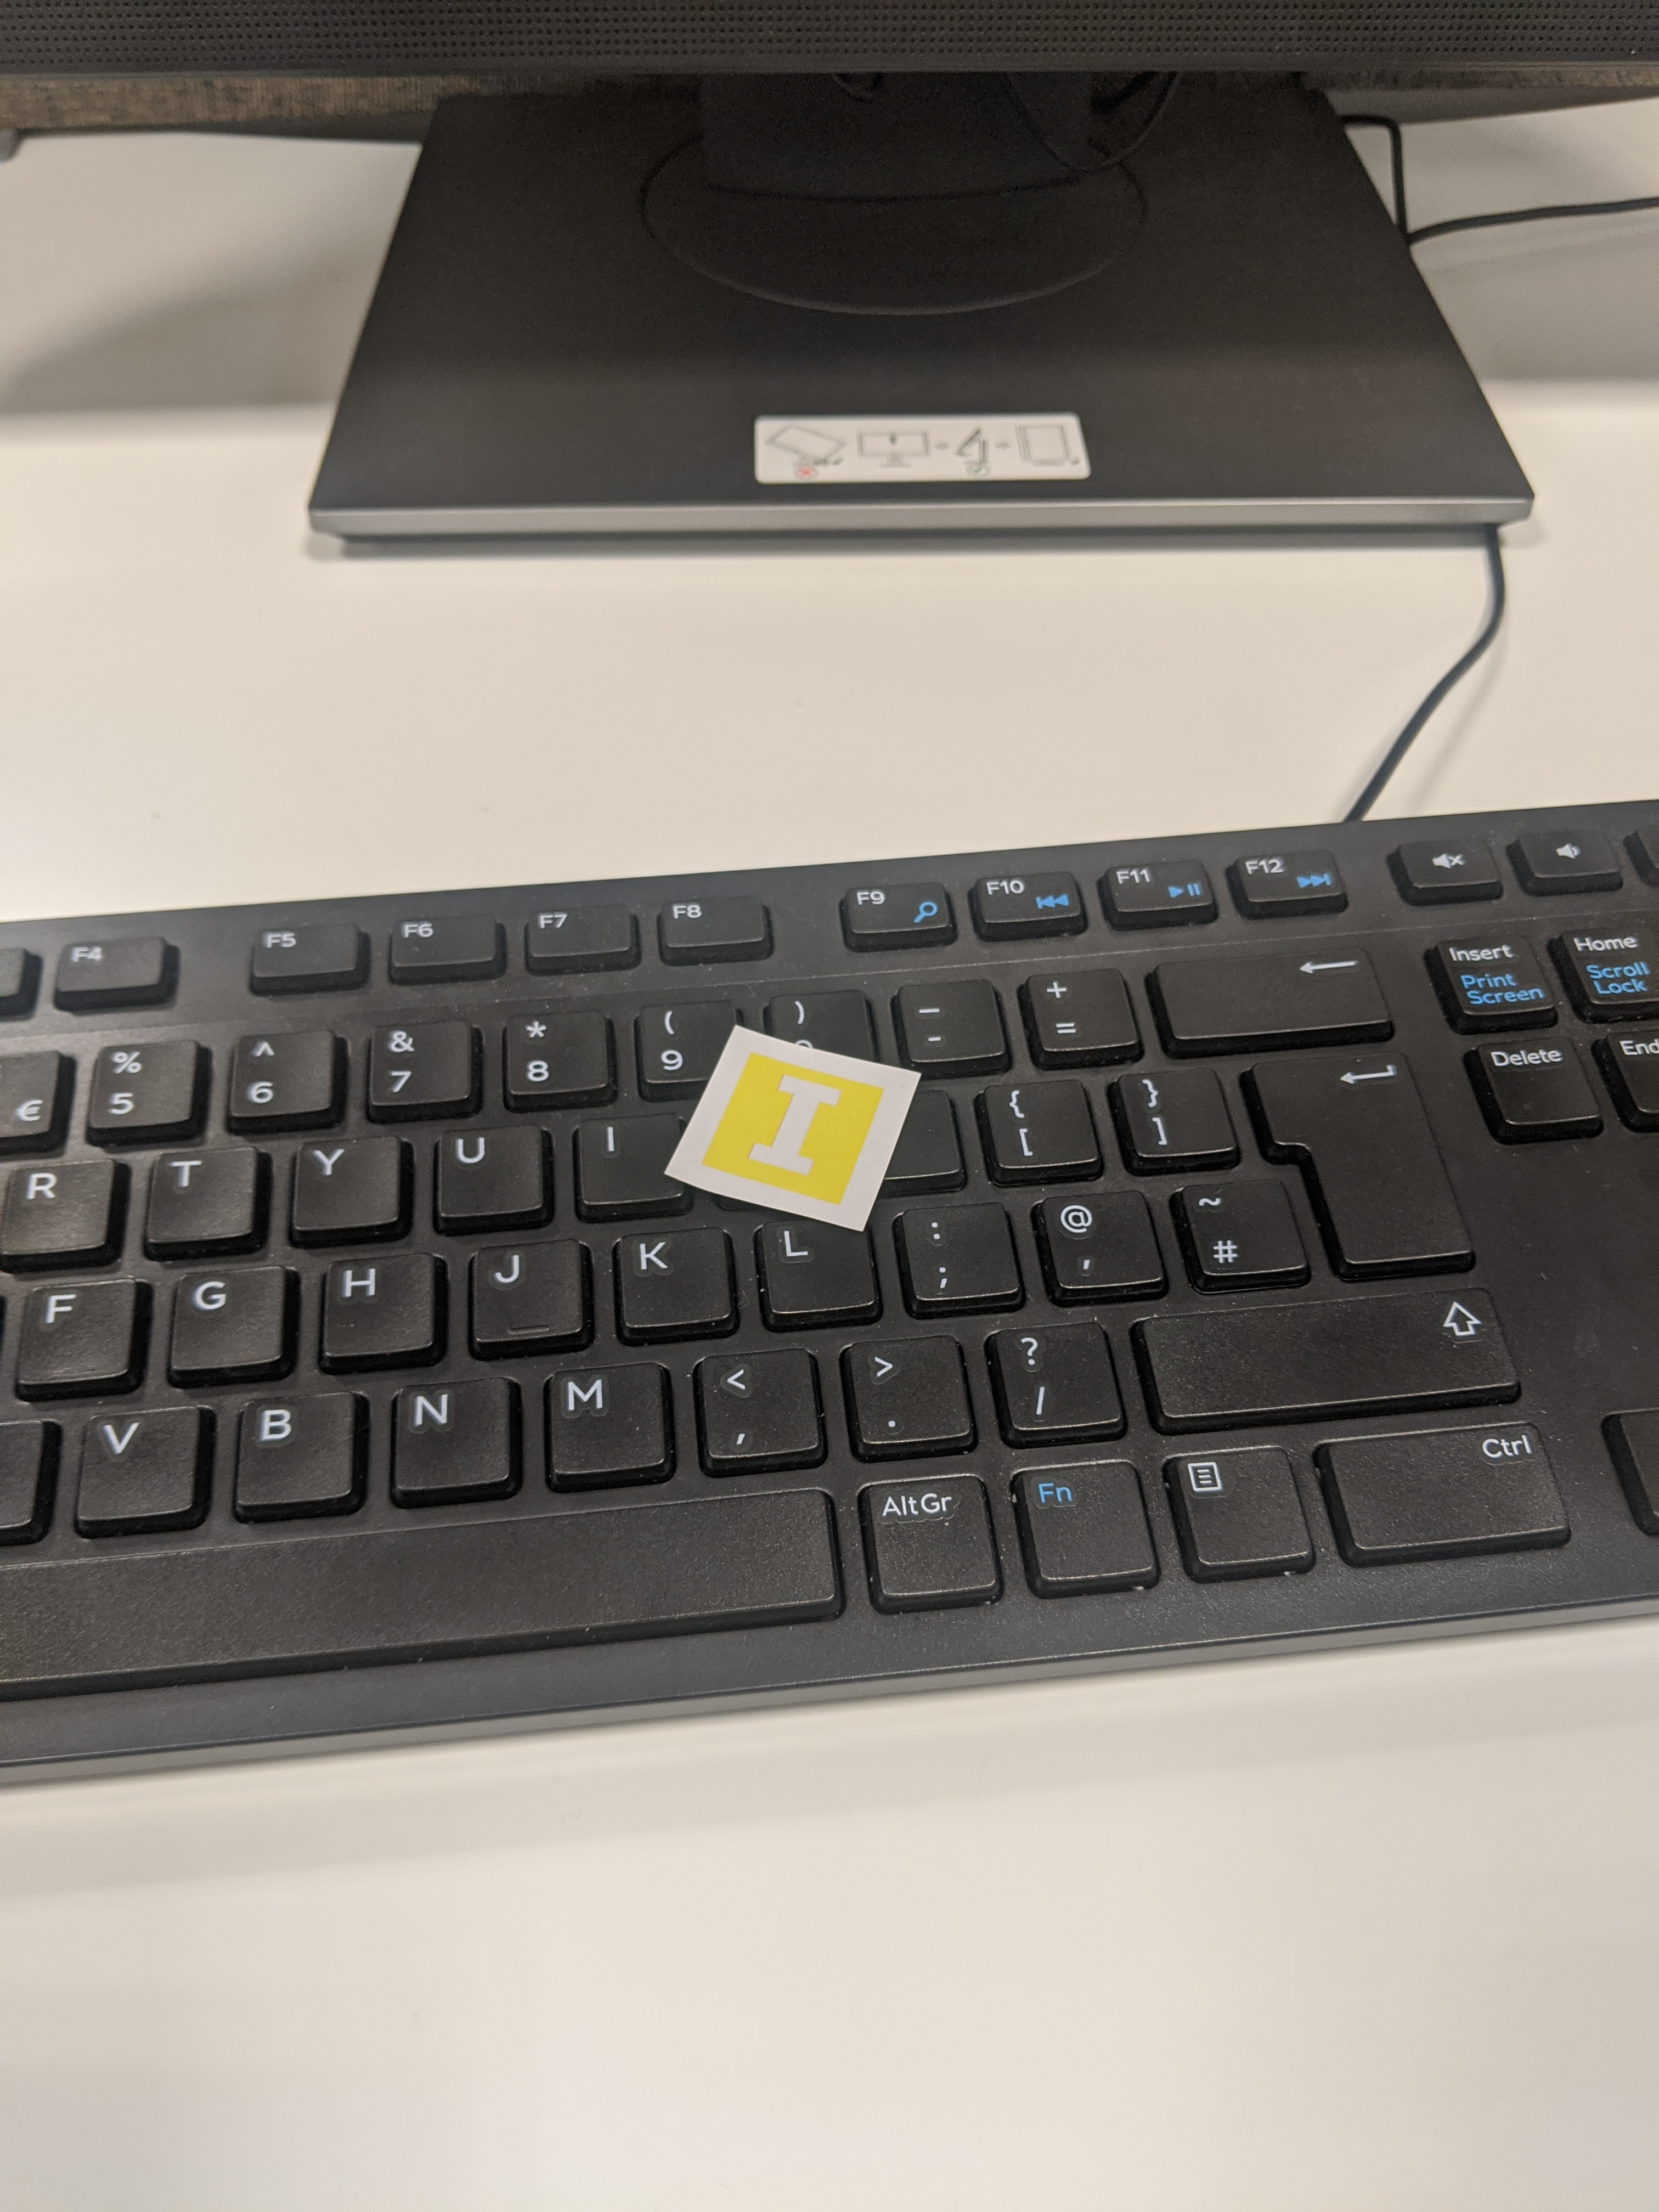yellow marker: (662, 1000, 934, 1237)
